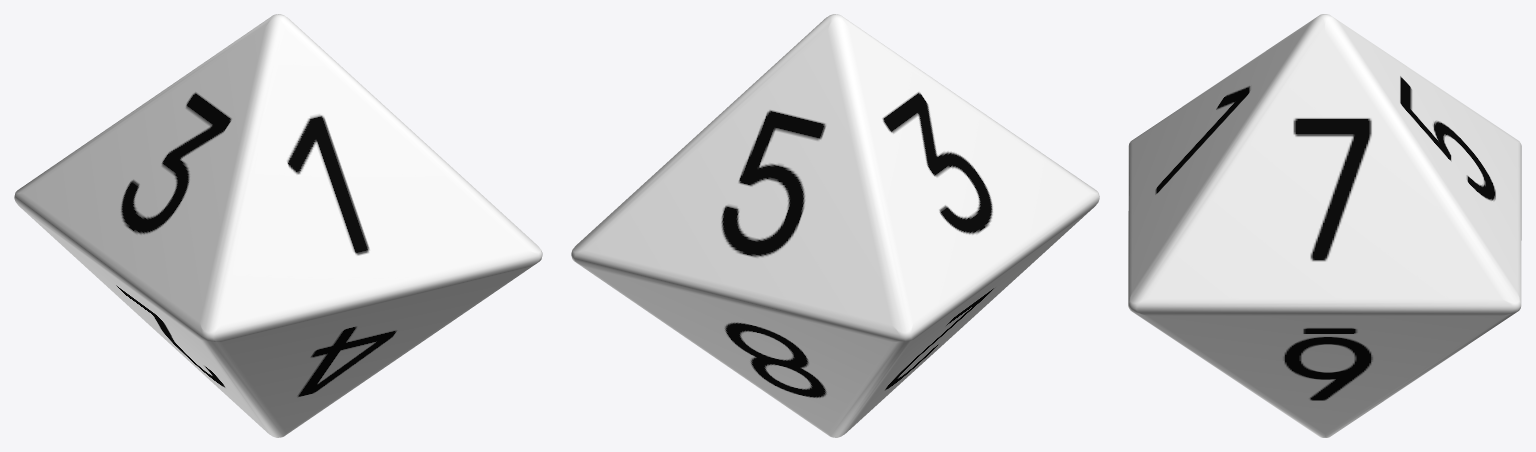
Rendered from Dado8.FBX.
3 views of the same model, side by side, from view 1: azimuth 30°, elevation 25°; view 2: azimuth 150°, elevation 25°; view 3: azimuth 270°, elevation 25° (orthographic).
Visible parts, largest first — view 1: Dado8; view 2: Dado8; view 3: Dado8.
Part boxes in pixels (x1,y1,x2,y2): Dado8: [14, 14, 542, 437]; Dado8: [571, 14, 1099, 437]; Dado8: [1128, 14, 1521, 437].
Size of the model in its own units: 218 by 258 by 218.
